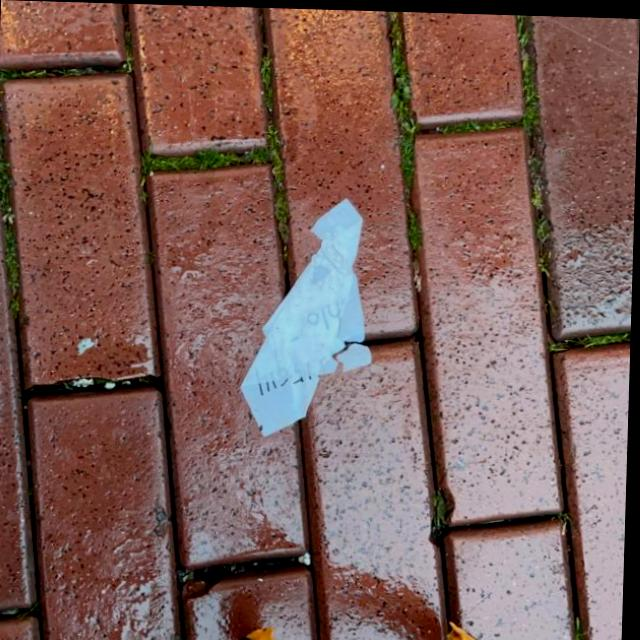Paper: (237, 193, 380, 440)
